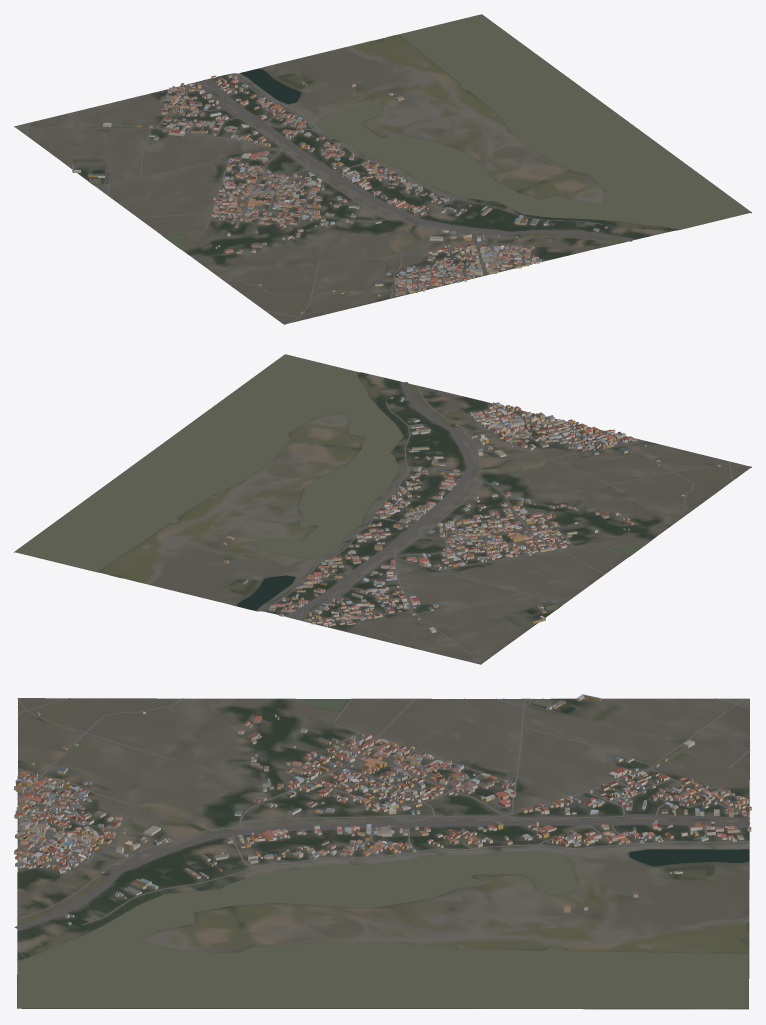
3 renders of one model, top to bottom at view 1: azimuth 30°, elevation 25°; view 2: azimuth 150°, elevation 25°; view 3: azimuth 270°, elevation 25°, orthographic. The views are drawn at different scales.
Visible parts, largest first — view 1: ground, water, buildings, roads; view 2: ground, water, buildings, roads; view 3: ground, water, buildings, roads.
Part boxes in pixels (box(x1,y1,x2,y2)): ground: box(14, 19, 751, 324); water: box(73, 14, 750, 248); buildings: box(71, 74, 607, 313); roads: box(16, 74, 673, 324); ground: box(14, 355, 751, 664); water: box(15, 354, 646, 633); buildings: box(223, 396, 720, 632); roads: box(264, 374, 750, 663); ground: box(17, 698, 749, 1009); water: box(17, 699, 748, 1008); buildings: box(14, 694, 751, 924); roads: box(14, 698, 750, 958).
Bounding box in the file's own units: 1408 × 21.86 × 1413.
